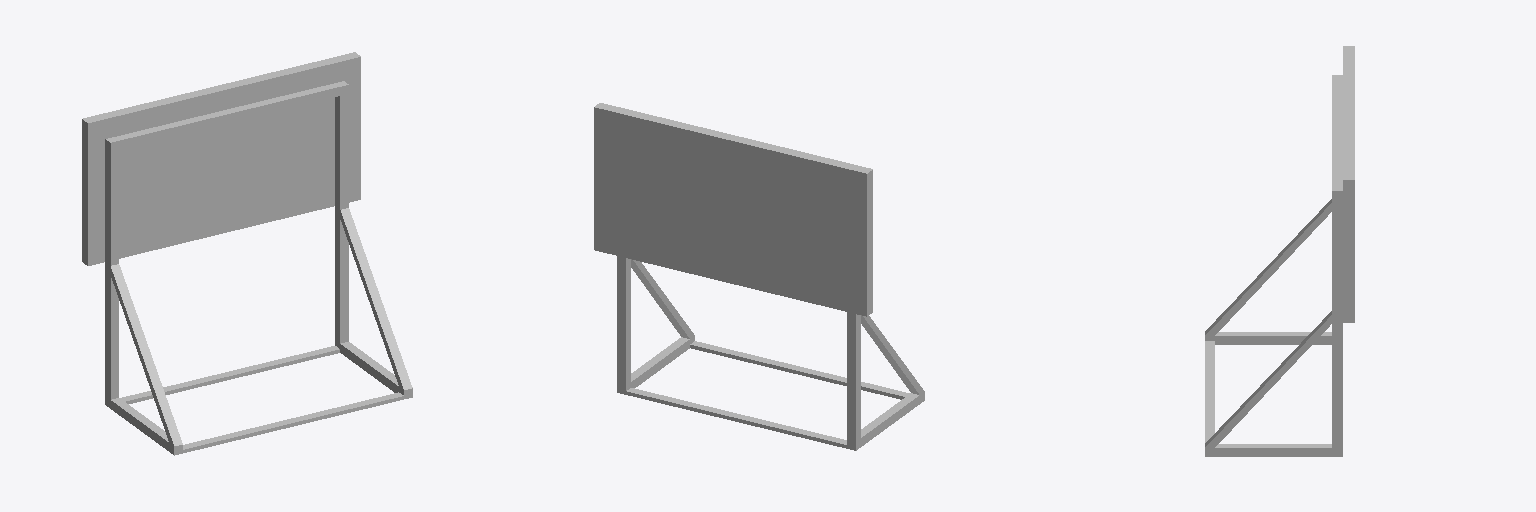
The model's file is billboard.obj.
3 renders of one model, left to right at view 1: azimuth 30°, elevation 25°; view 2: azimuth 150°, elevation 25°; view 3: azimuth 270°, elevation 25°, orthographic.
Parts seen in each view (by area): view 1: billboard; view 2: billboard; view 3: billboard.
Boxes of the visible parts, x1,y1,x2,y2 form: billboard: [82, 52, 412, 455]; billboard: [594, 103, 924, 450]; billboard: [1205, 46, 1354, 456].
Bounding box in the file's own units: 10 × 10 × 4.76.